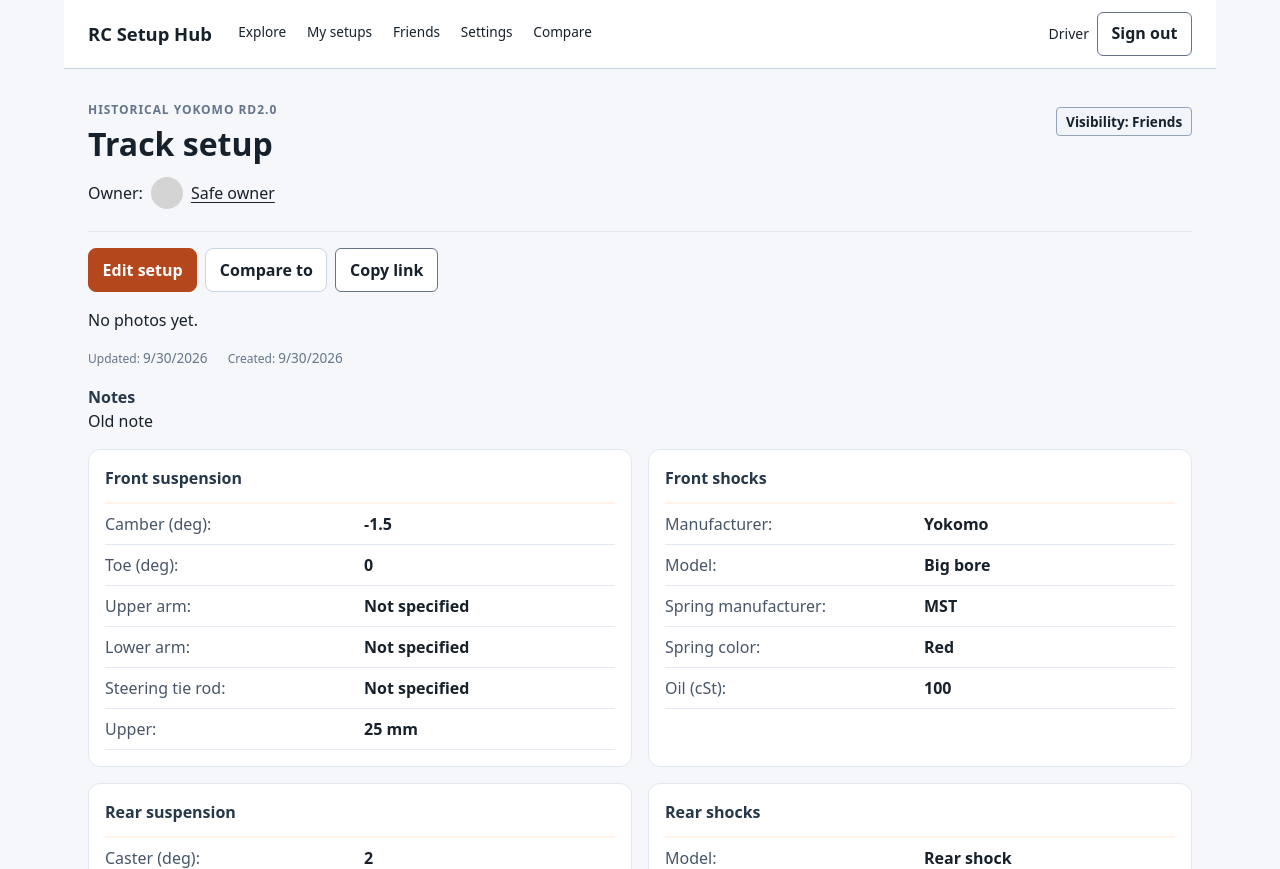
Test: copies exactly the stable frontend URL without query parameters
This screenshot has width=1280, height=869.
Expected: the heading "Track setup" is shown, [88,125,277,163]
What coordinates should you click on to do the following:
click the button "Copy link"
I would click on:
 (387, 270)
Its box is [336,248,438,292].
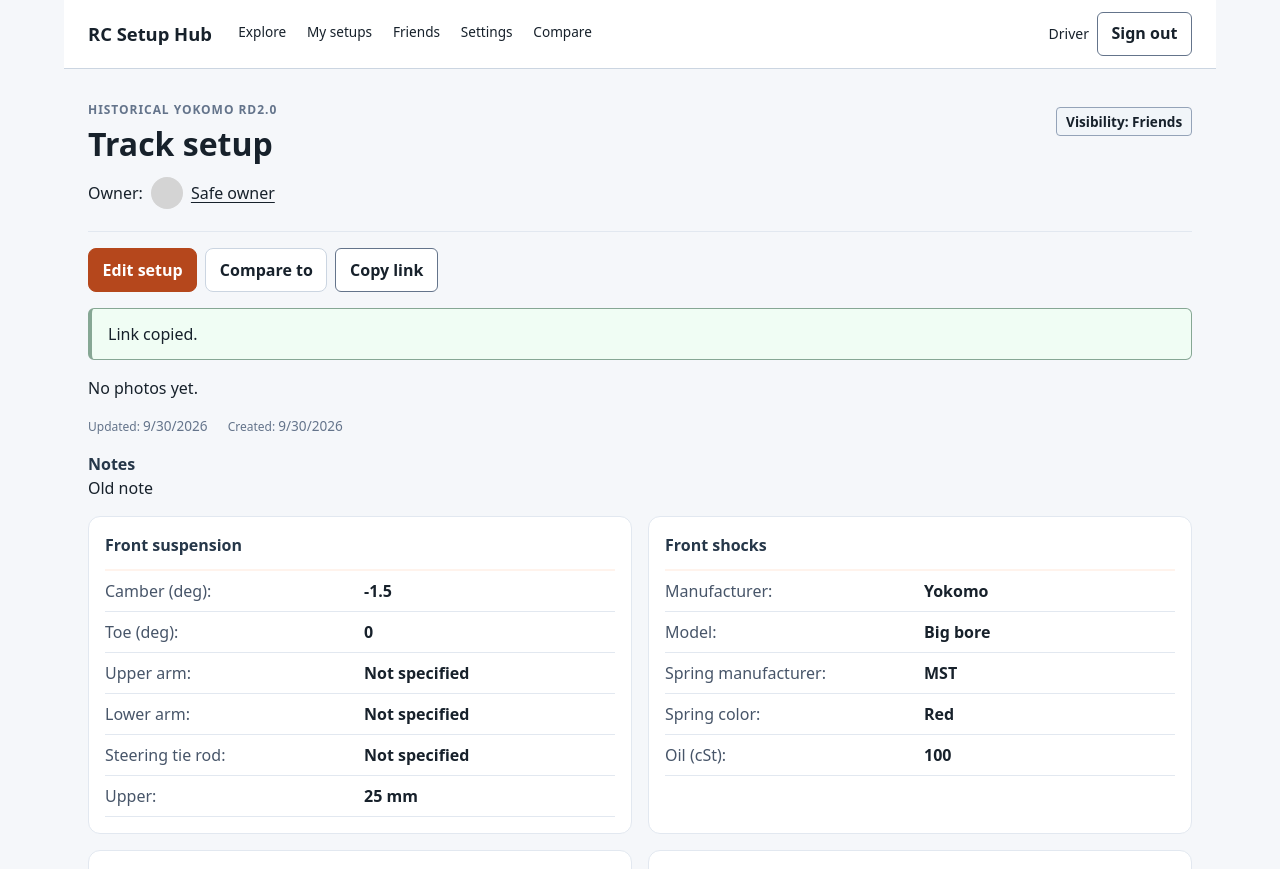
Now the text "Link copied." is shown, box [88,308,1192,360]
